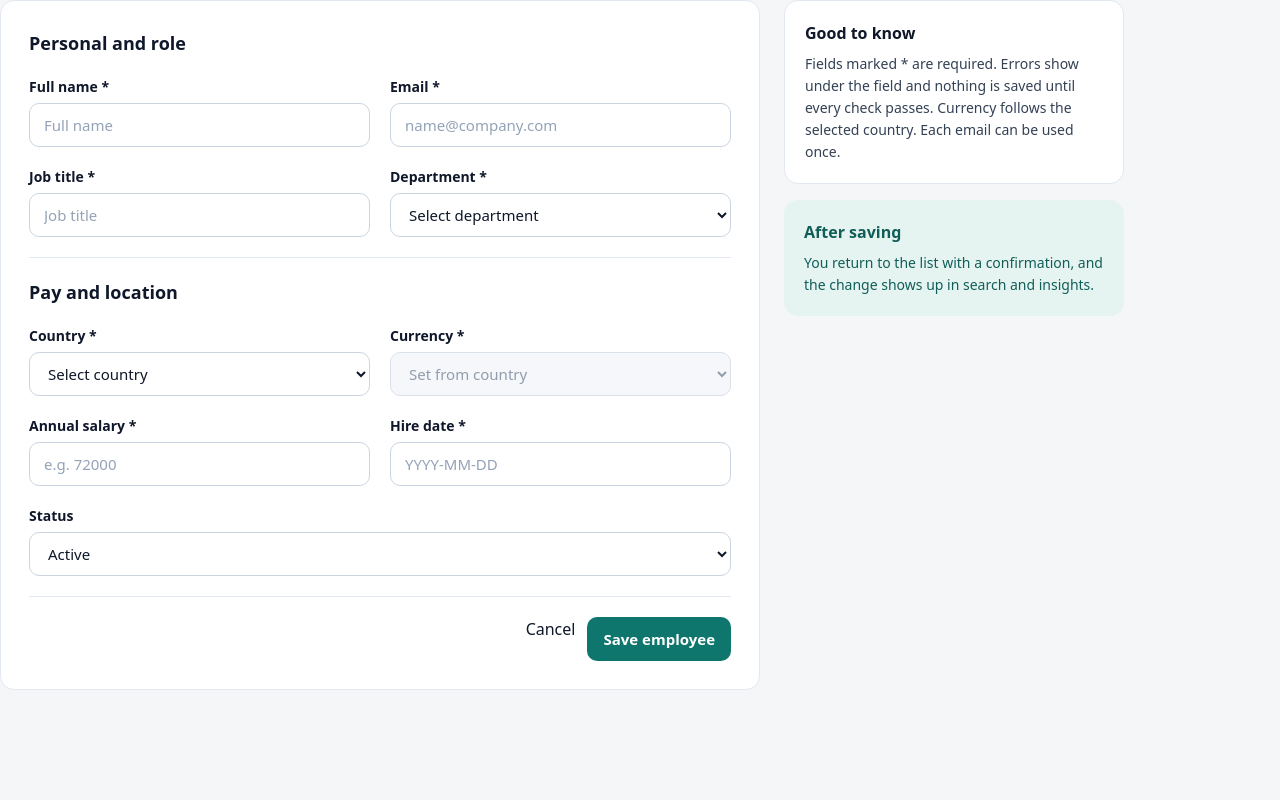
Test: EmployeeForm › sets the currency from the chosen country
Select "Japan" in the dropdown labelled "Country *" at (200, 374), box x1=29 y1=352 x2=370 y2=396
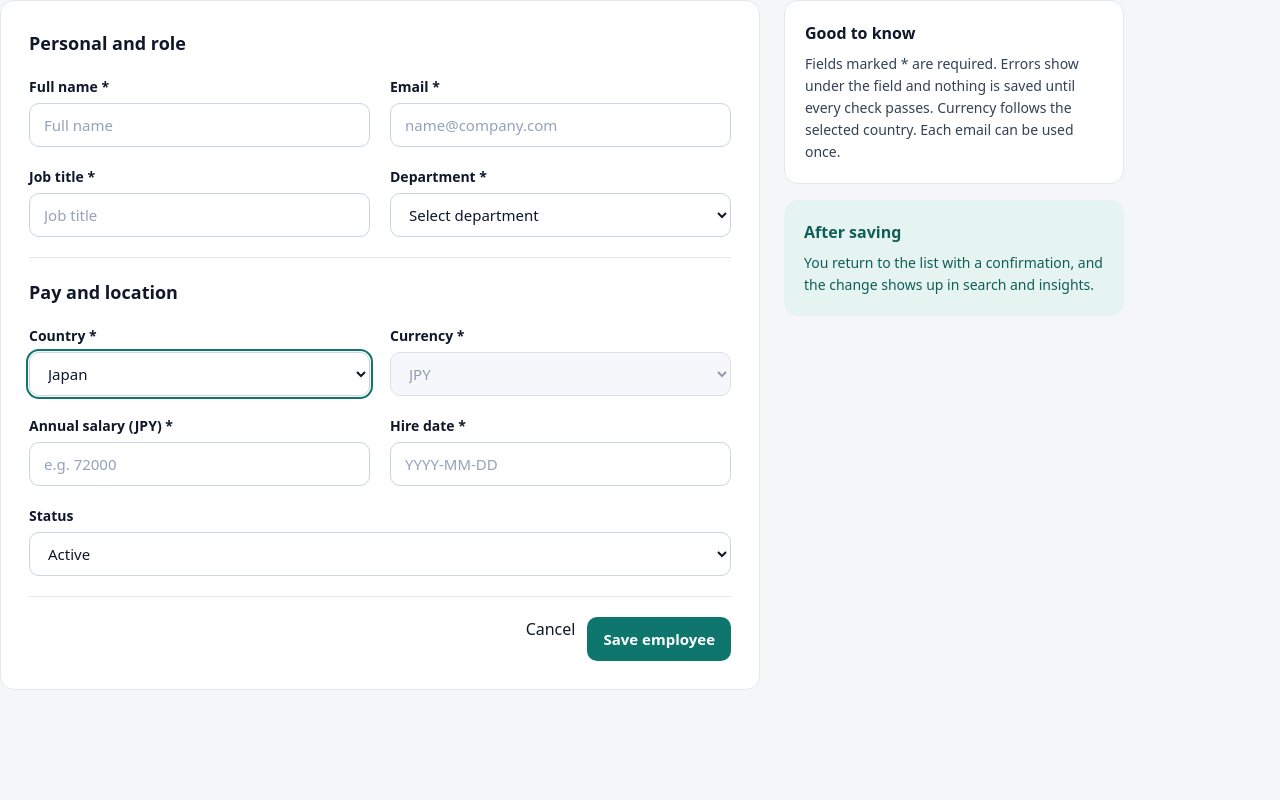
Expected: the field labelled "Annual salary (JPY) *" is shown, x1=29 y1=442 x2=370 y2=486
Expected: the dropdown labelled "Currency *" shows "JPY", x1=390 y1=352 x2=731 y2=396
